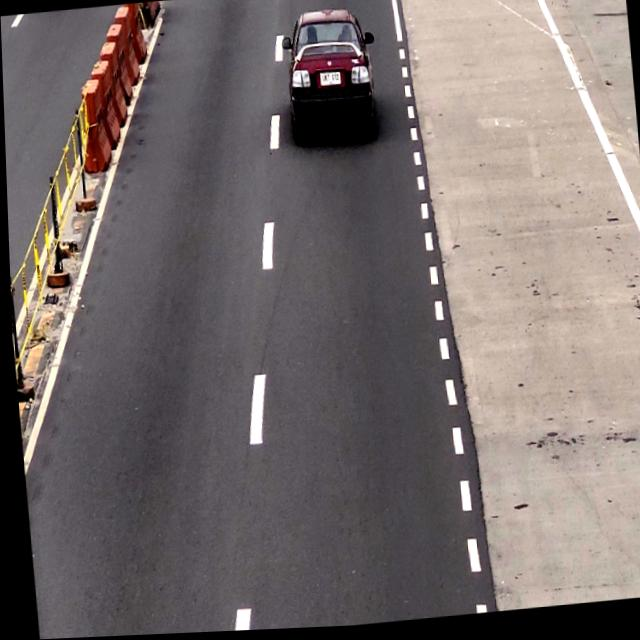Car: (281, 5, 378, 148)
License-Plate: (319, 74, 341, 93)
